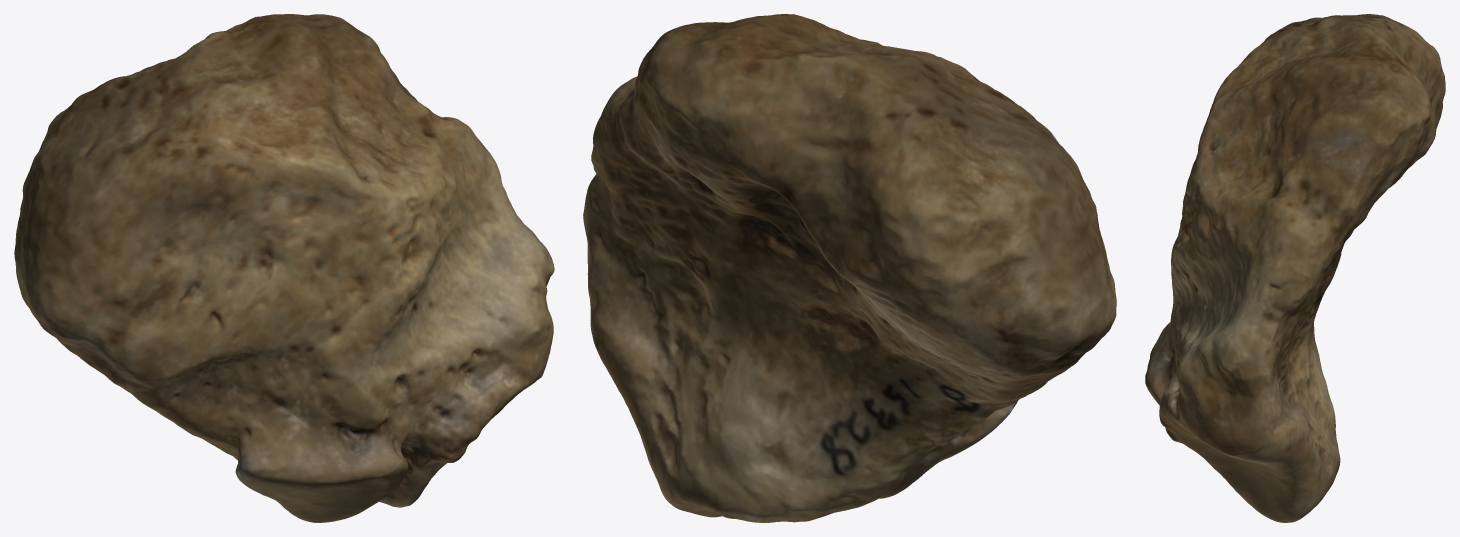
3 views of the same model, side by side, from view 1: azimuth 30°, elevation 25°; view 2: azimuth 150°, elevation 25°; view 3: azimuth 270°, elevation 25° (orthographic). The views are drawn at different scales.
Parts seen in each view (by area): view 1: Node; view 2: Node; view 3: Node.
Boxes of the visible parts, bbox=[...] form: Node: bbox=[14, 14, 554, 522]; Node: bbox=[583, 14, 1116, 522]; Node: bbox=[1145, 14, 1445, 522].
Size of the model in its own units: 43.06 by 40.13 by 25.65.
1 material, 1 textured.
